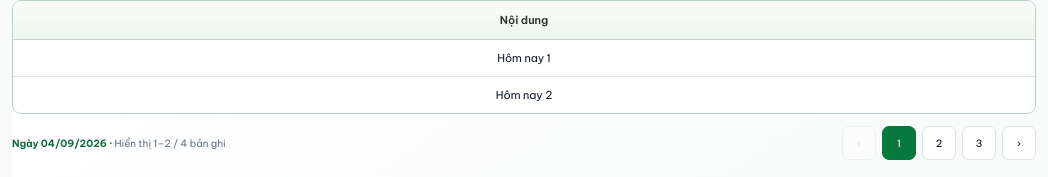
Test: TableWrap pagination › isolates the configured current date on page one without backfilling older rows
expect the text "Hôm nay 1" is shown: met, box top-left (13, 40), bottom-right (1035, 76)
expect the text "Hôm nay 2" is shown: met, box top-left (13, 76), bottom-right (1035, 113)
Click the button named "Trang 2" at coordinates (939, 143), box top-left (922, 126), bottom-right (956, 160)
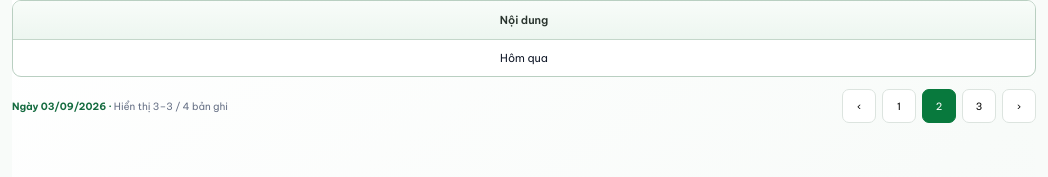
expect the text "Hôm qua" is shown: met, box top-left (13, 40), bottom-right (1035, 76)
